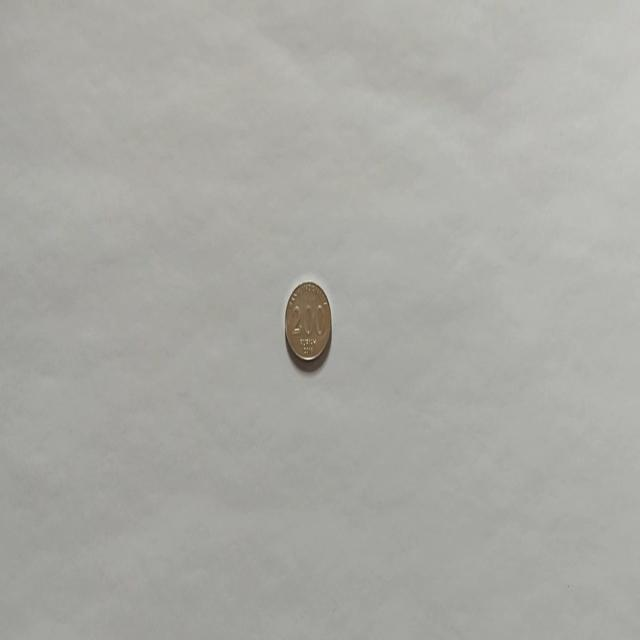dua ratus rupiah: (284, 279, 332, 364)
